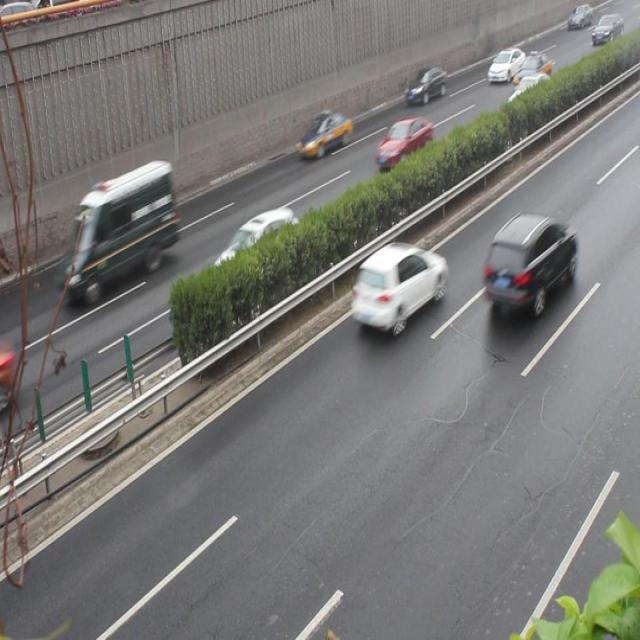car: (482, 212, 578, 317), (348, 243, 444, 332), (209, 206, 300, 299), (374, 116, 432, 173), (294, 110, 352, 164), (504, 73, 550, 118)
truck: (57, 161, 176, 298)
